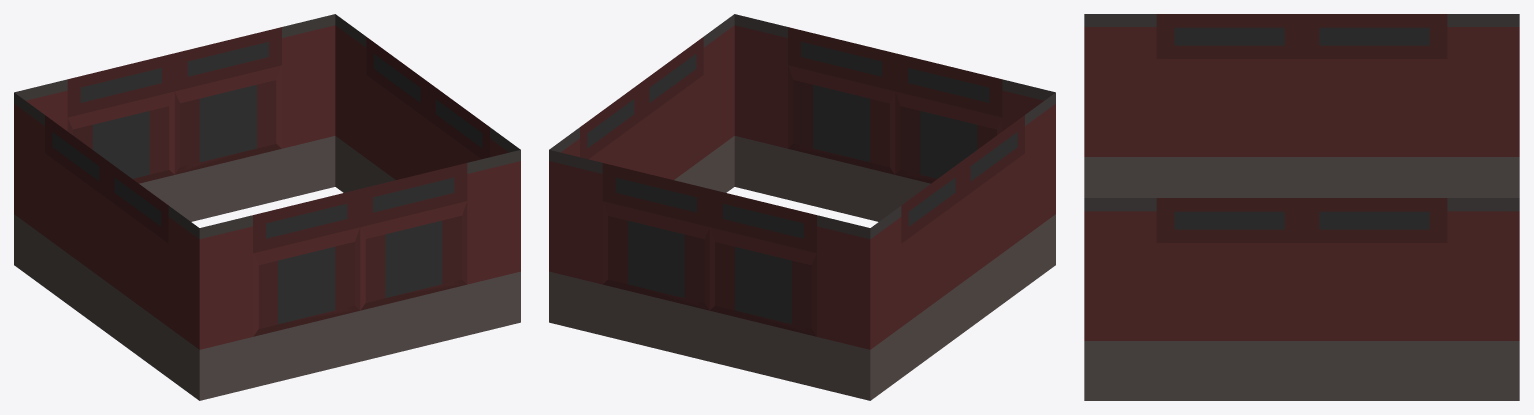
Rendered from StackA-Sm_BLOD2.fbx.
3 renders of one model, left to right at view 1: azimuth 30°, elevation 25°; view 2: azimuth 150°, elevation 25°; view 3: azimuth 270°, elevation 25°, orthographic. The views are drawn at different scales.
Visible parts, largest first — view 1: StackA-Sm_BLOD2; view 2: StackA-Sm_BLOD2; view 3: StackA-Sm_BLOD2.
Boxes of the visible parts, x1=… form: StackA-Sm_BLOD2: x1=14, y1=14, x2=520, y2=400; StackA-Sm_BLOD2: x1=549, y1=14, x2=1055, y2=400; StackA-Sm_BLOD2: x1=1084, y1=14, x2=1519, y2=400.
Size of the model in its own units: 750 by 386 by 750.
